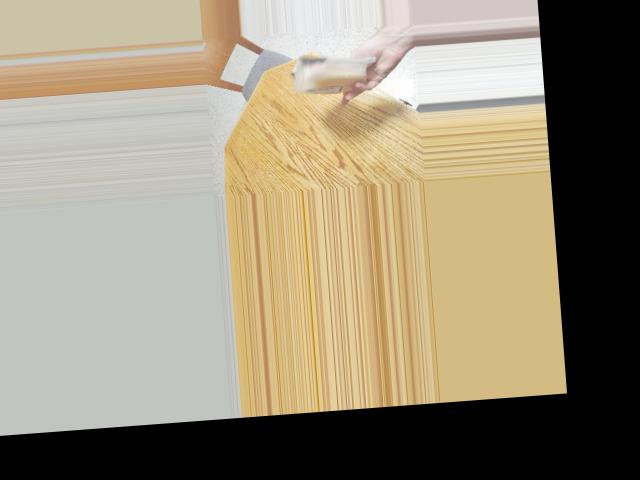cheese: (292, 44, 371, 105)
